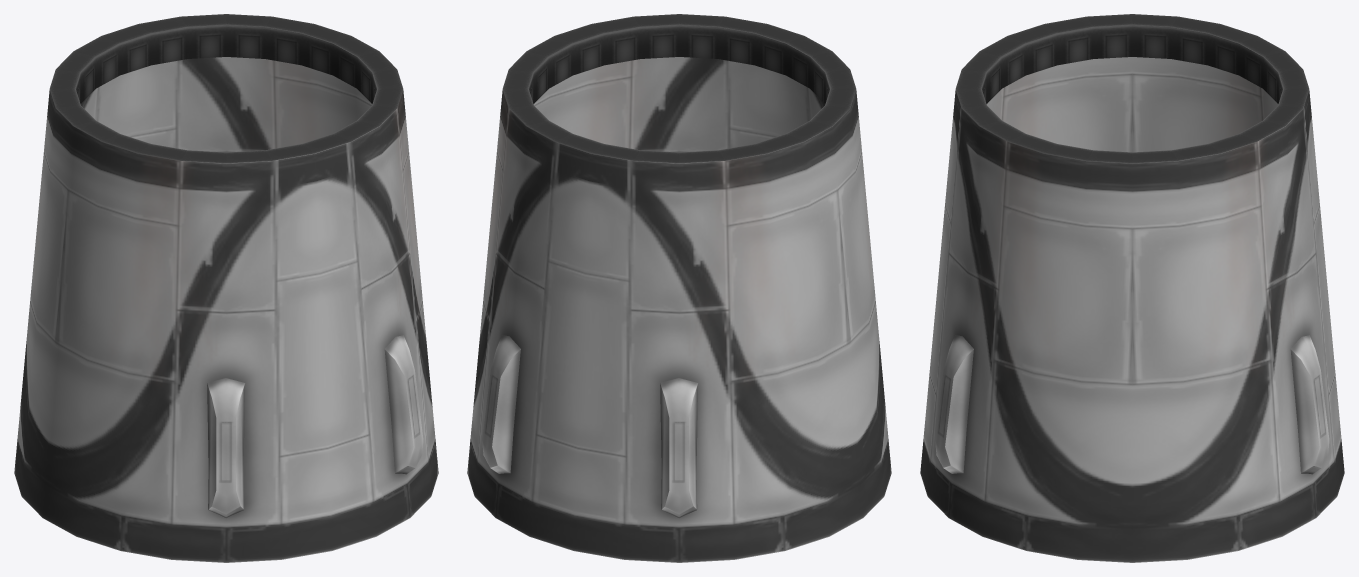
File: bluedog_thorShortAdapter.dae
3 views of the same model, side by side, from view 1: azimuth 30°, elevation 25°; view 2: azimuth 150°, elevation 25°; view 3: azimuth 270°, elevation 25° (orthographic).
Visible parts, largest first — view 1: polySurface6, polySurface7, BabyBackRib6, BabyBackRib5; view 2: polySurface6, polySurface7, BabyBackRib, BabyBackRib4; view 3: polySurface6, polySurface7, BabyBackRib4, BabyBackRib5.
Part boxes in pixels (x1,y1,x2,y2): polySurface6: (14,57,438,562); polySurface7: (49,14,403,163); BabyBackRib6: (207,378,245,517); BabyBackRib5: (384,335,423,474); polySurface6: (467,57,891,562); polySurface7: (502,14,856,163); BabyBackRib: (660,378,698,517); BabyBackRib4: (482,335,520,473); polySurface6: (920,57,1344,562); polySurface7: (955,14,1309,163); BabyBackRib4: (1290,335,1329,474); BabyBackRib5: (935,335,973,473).
Size of the model in its own units: 1.5 by 1.5 by 1.5.
